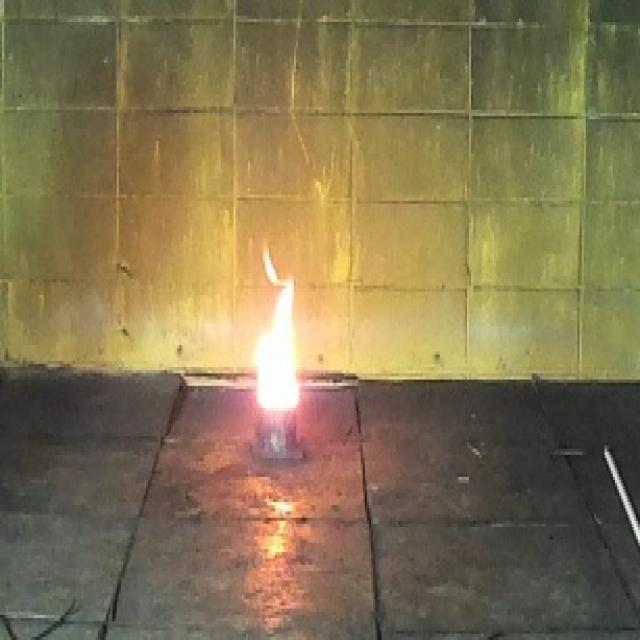Fire: (254, 242, 300, 412)
